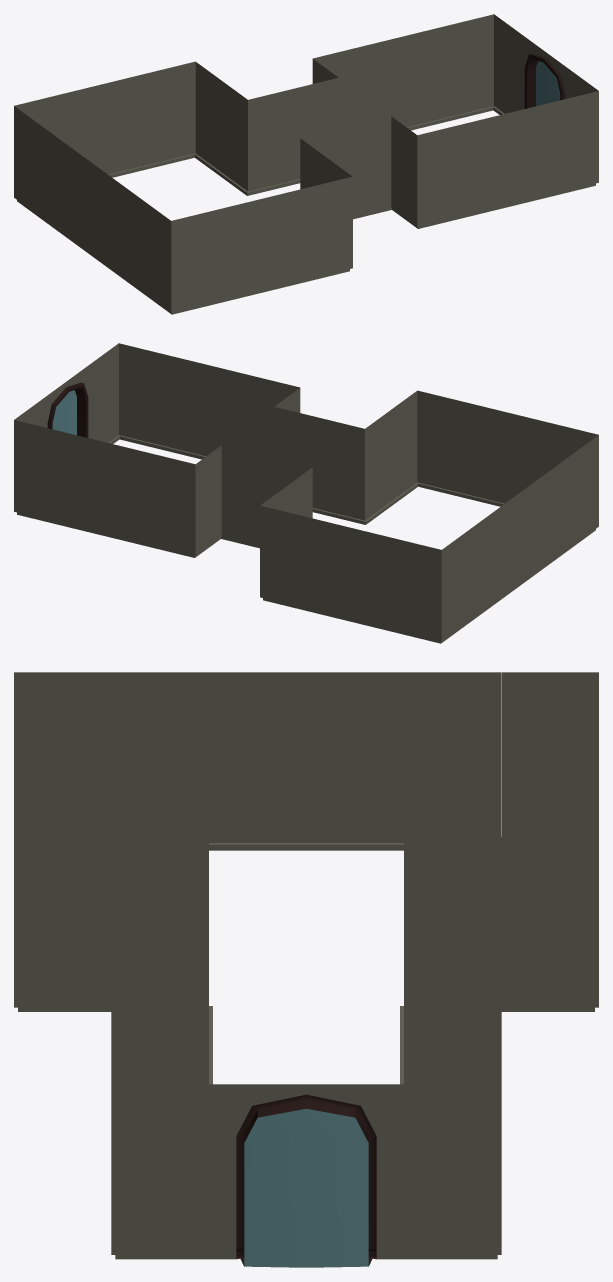
File: Blockout_Walls.fbx
3 renders of one model, top to bottom at view 1: azimuth 30°, elevation 25°; view 2: azimuth 150°, elevation 25°; view 3: azimuth 270°, elevation 25°, orthographic. The views are drawn at different scales.
Parts seen in each view (by area): view 1: Blockout_Walls; view 2: Blockout_Walls; view 3: Blockout_Walls.
Part boxes in pixels (bbox=[...]): Blockout_Walls: bbox=[14, 14, 598, 314]; Blockout_Walls: bbox=[14, 343, 598, 643]; Blockout_Walls: bbox=[14, 672, 598, 1267].
Size of the model in its own units: 18.91 by 3.72 by 11.16.
